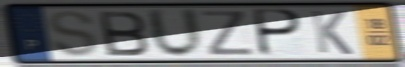B: (96, 10, 152, 58)
K: (308, 9, 356, 57)
P: (253, 8, 305, 59)
S: (47, 9, 101, 59)
U: (144, 6, 207, 60)
Z: (199, 9, 258, 57)
